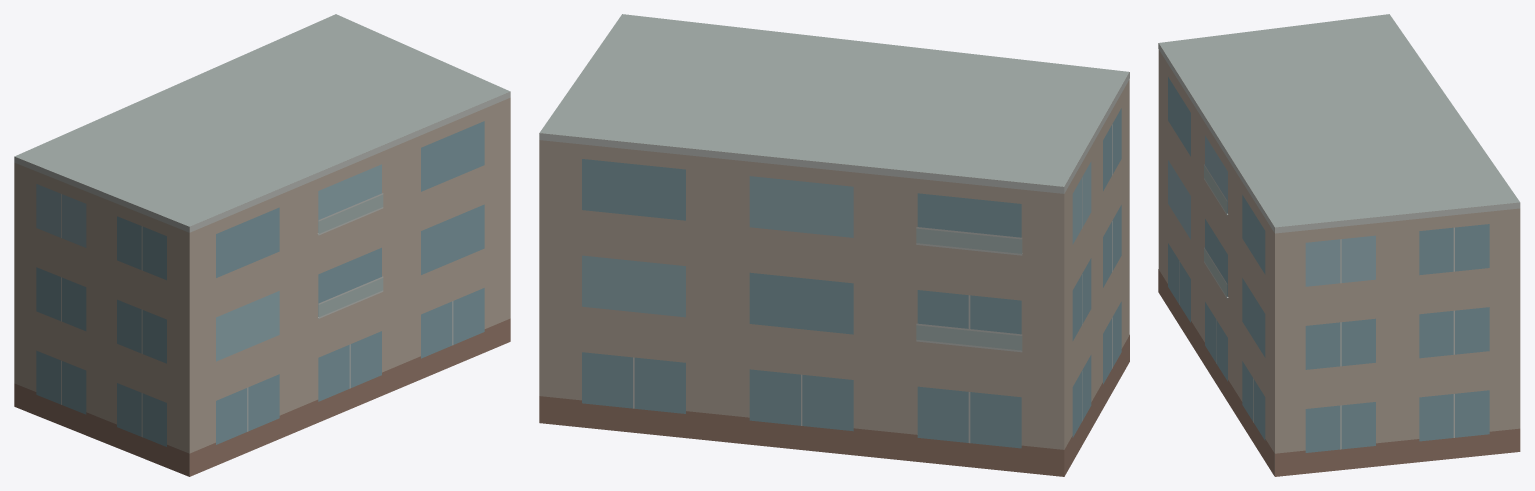
Rendered from survey-upis-32650948.glb.
3 views of the same model, side by side, from view 1: azimuth 30°, elevation 25°; view 2: azimuth 150°, elevation 25°; view 3: azimuth 270°, elevation 25° (orthographic). The views are drawn at different scales.
Visible parts, largest first — view 1: survey-upis-32650948.tmp; view 2: survey-upis-32650948.tmp; view 3: survey-upis-32650948.tmp.
Boxes of the visible parts, bbox=[...] form: survey-upis-32650948.tmp: bbox=[14, 14, 510, 476]; survey-upis-32650948.tmp: bbox=[539, 14, 1129, 476]; survey-upis-32650948.tmp: bbox=[1158, 14, 1520, 476].
Size of the model in its own units: 18.55 by 10.1 by 13.29.
